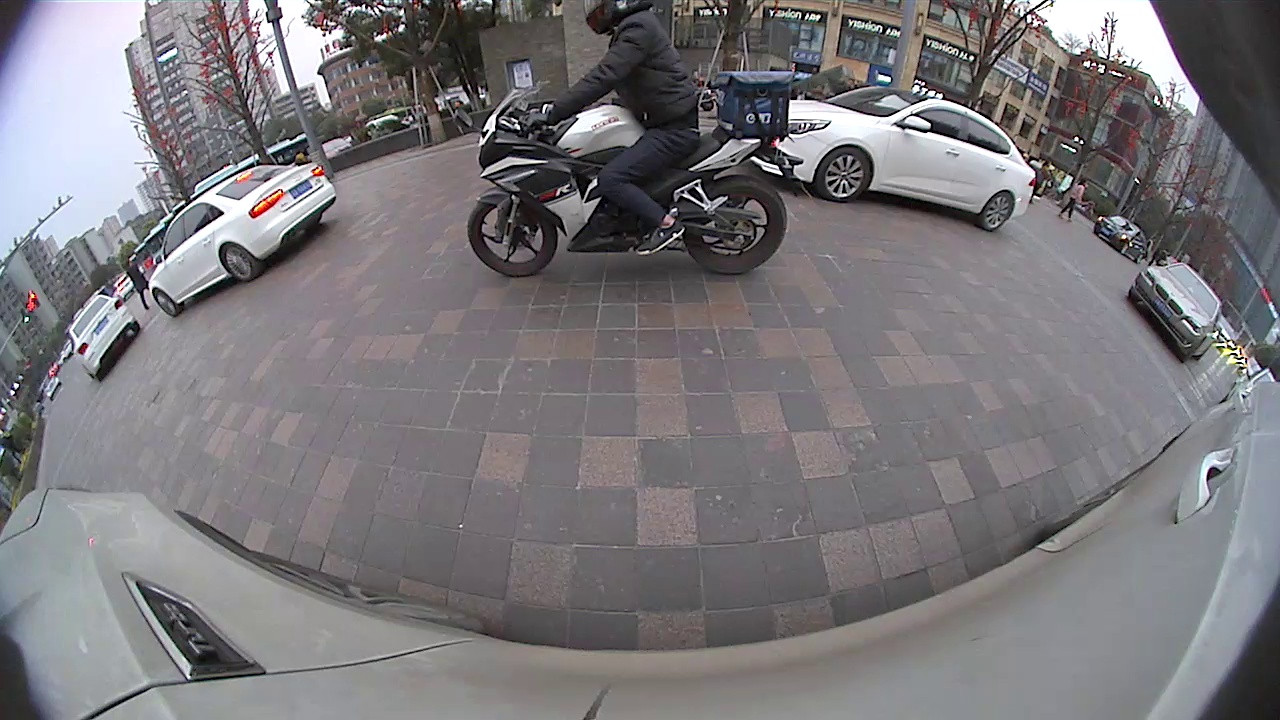car: (763, 83, 1039, 235), (148, 158, 342, 324), (1126, 258, 1226, 365), (65, 291, 143, 385), (1091, 212, 1151, 266)
front: (463, 190, 562, 282), (811, 142, 874, 207), (151, 285, 182, 318)
rear: (678, 171, 792, 279), (214, 240, 260, 284), (976, 188, 1017, 233)
rider: (450, 1, 798, 277)
